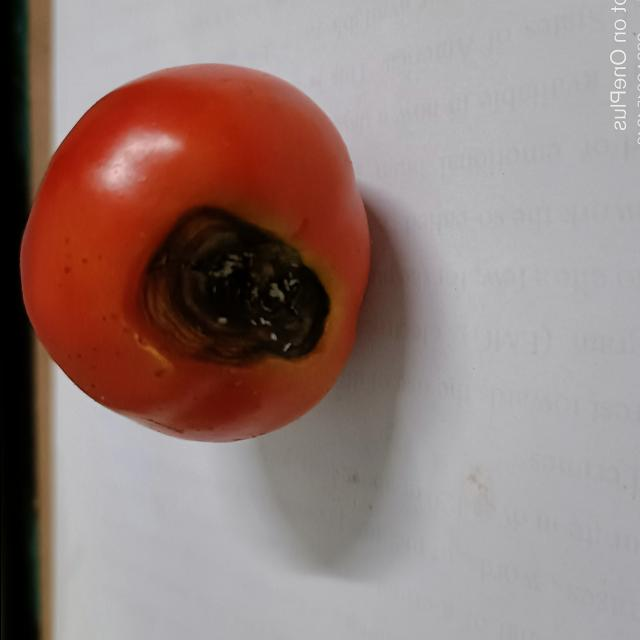Anthrocnose: (124, 209, 330, 373)
